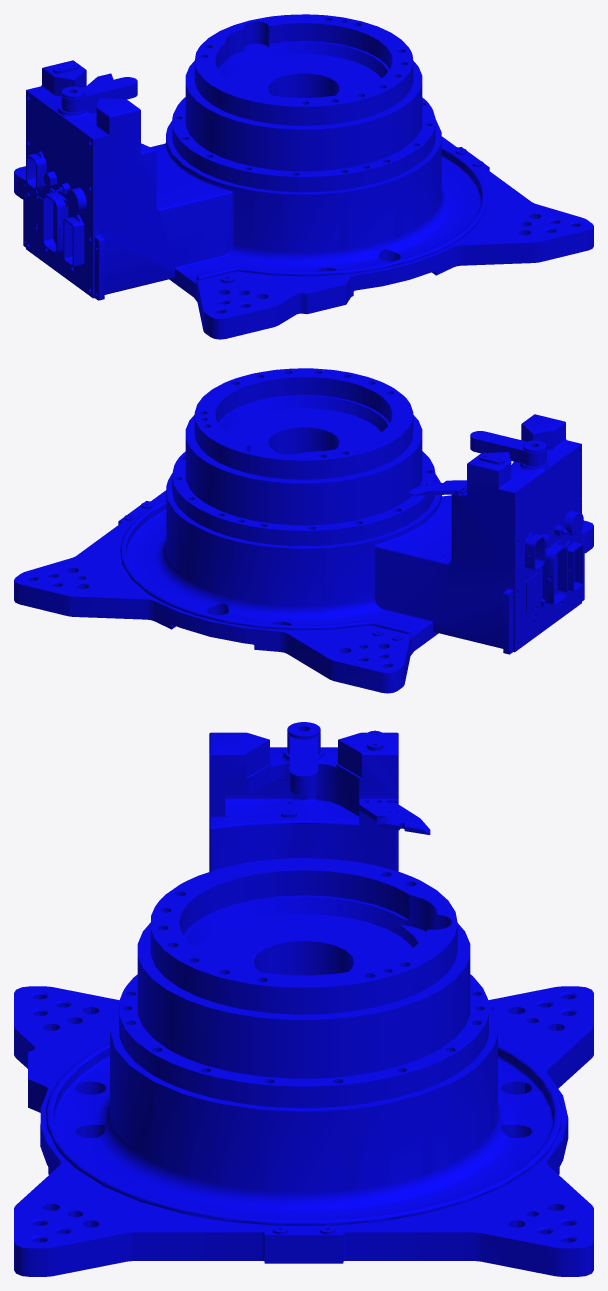
The model's file is es165d_BASE_AXIS.dae.
3 views of the same model, one above another, from view 1: azimuth 30°, elevation 25°; view 2: azimuth 150°, elevation 25°; view 3: azimuth 270°, elevation 25° (orthographic). The views are drawn at different scales.
Visible parts, largest first — view 1: node; view 2: node; view 3: node.
Boxes of the visible parts, x1=… form: node: x1=14, y1=14, x2=593, y2=339; node: x1=14, y1=368, x2=593, y2=693; node: x1=14, y1=722, x2=593, y2=1276.
Bounding box in the file's own units: 0.9219 × 0.7354 × 0.365.
